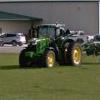Tractor: (13, 18, 86, 68)
